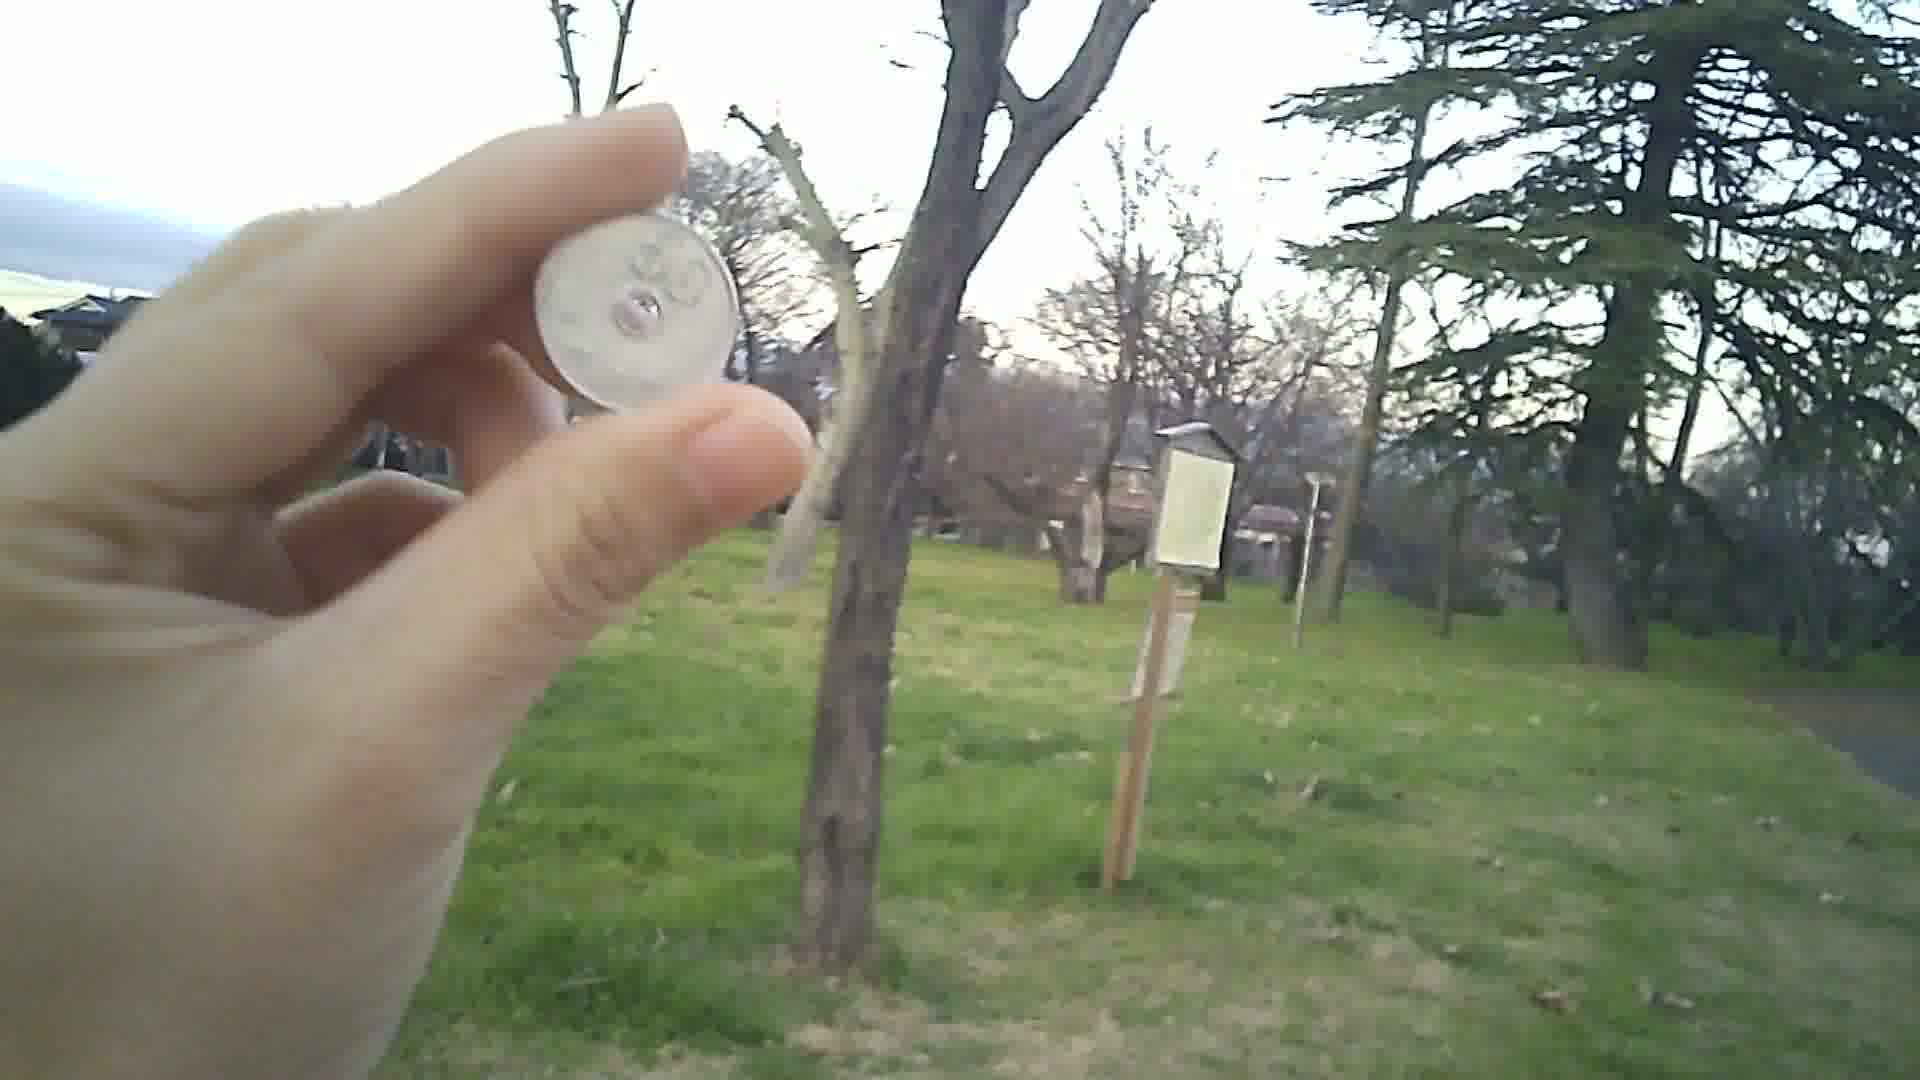50 Yen: (535, 199, 753, 407)
